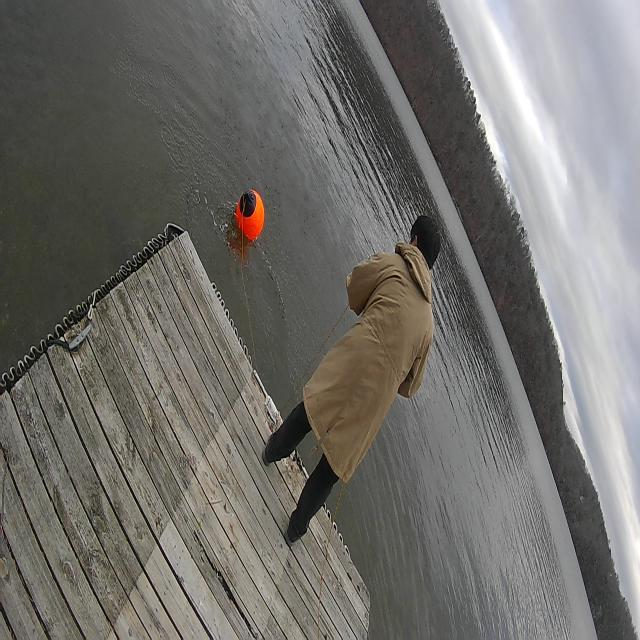Buoy: (234, 182, 266, 250)
